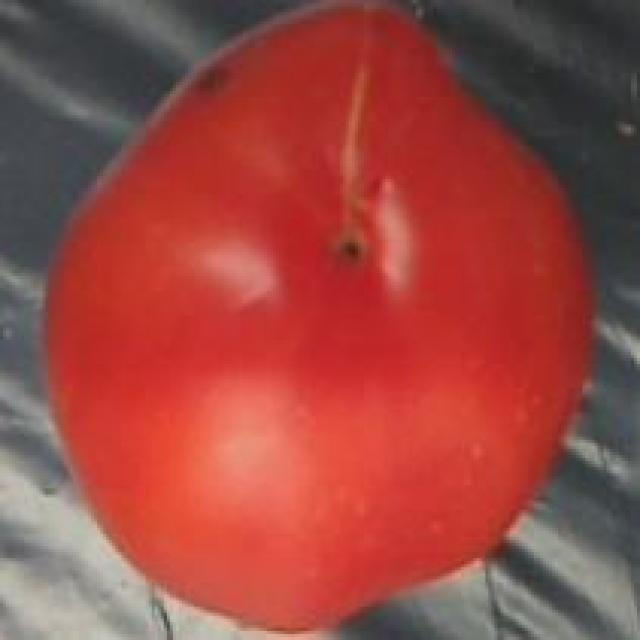overripe tomato: (34, 0, 598, 640)
